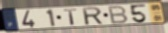1: (45, 8, 56, 27)
4: (21, 9, 37, 29)
5: (129, 3, 149, 24)
B: (107, 5, 130, 25)
R: (81, 6, 105, 26)
T: (62, 8, 79, 26)
